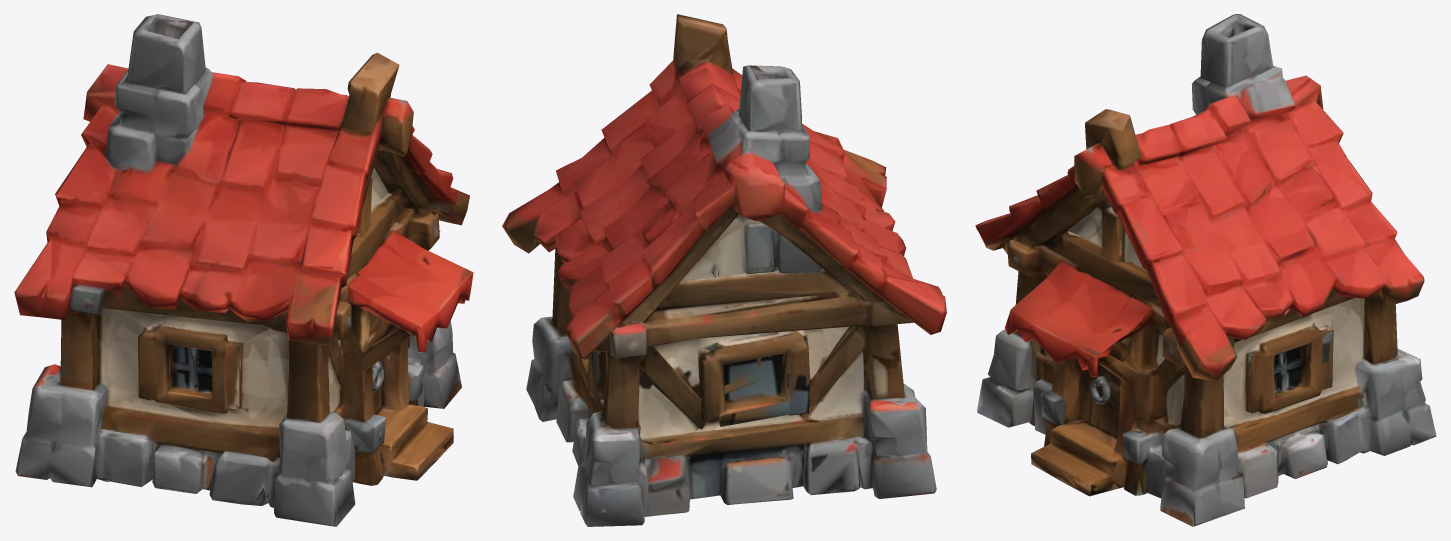
The model's file is bld_house.glb.
3 views of the same model, side by side, from view 1: azimuth 30°, elevation 25°; view 2: azimuth 150°, elevation 25°; view 3: azimuth 270°, elevation 25° (orthographic). The views are drawn at different scales.
Parts seen in each view (by area): view 1: BakeLow; view 2: BakeLow; view 3: BakeLow.
Boxes of the visible parts, x1,y1,x2,y2 form: BakeLow: [14, 14, 473, 526]; BakeLow: [502, 14, 946, 526]; BakeLow: [975, 14, 1436, 526].
Size of the model in its own units: 0.8697 by 0.7599 by 0.8349.
Materials: 1 (1 with a texture image).
